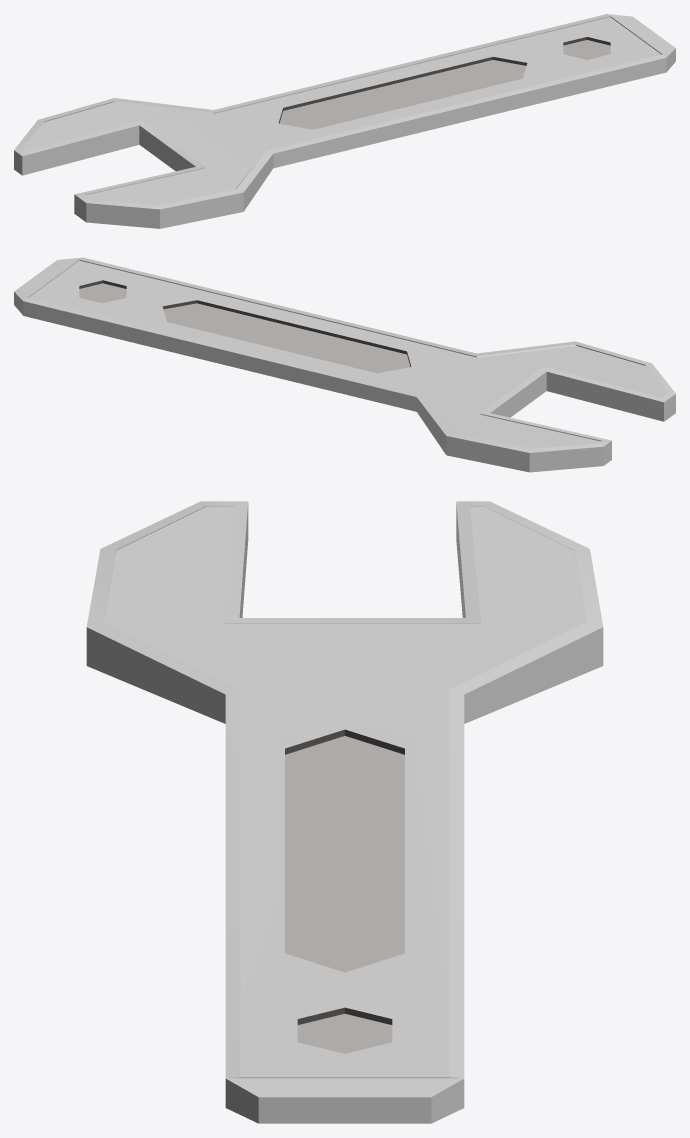
Rendered from Wrench 2.fbx.
3 renders of one model, top to bottom at view 1: azimuth 30°, elevation 25°; view 2: azimuth 150°, elevation 25°; view 3: azimuth 270°, elevation 25°, orthographic. The views are drawn at different scales.
Visible parts, largest first — view 1: wrench; view 2: wrench; view 3: wrench.
Part boxes in pixels (<box>): wrench: <box>14,14,675,228</box>; wrench: <box>14,257,675,472</box>; wrench: <box>86,501,603,1123</box>.
Bounding box in the file's own units: 642 × 21.5 × 238.
